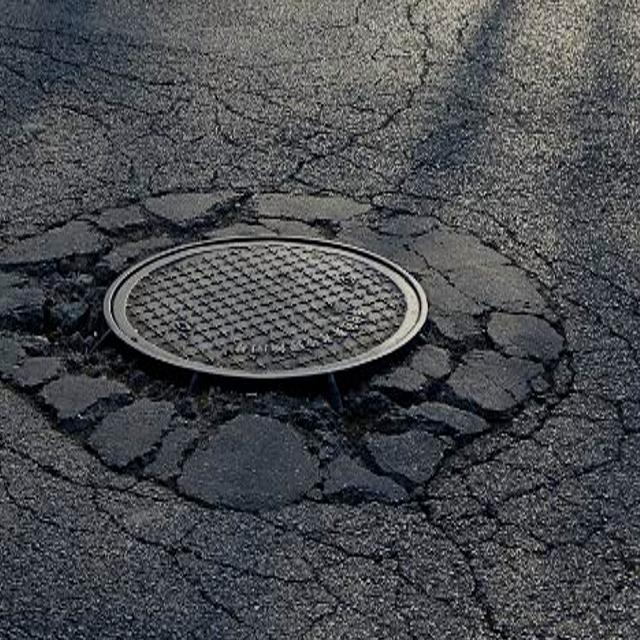circle: (13, 175, 590, 552)
